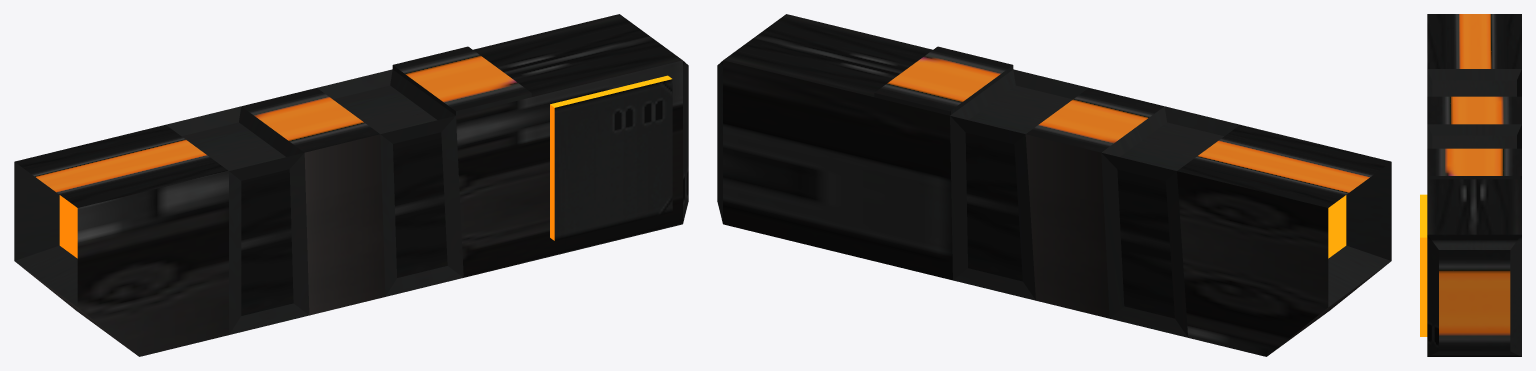
File: flashlight2.glb
3 views of the same model, side by side, from view 1: azimuth 30°, elevation 25°; view 2: azimuth 150°, elevation 25°; view 3: azimuth 270°, elevation 25° (orthographic). The views are drawn at different scales.
Parts seen in each view (by area): view 1: Cube; view 2: Cube; view 3: Cube.
Boxes of the visible parts, x1,y1,x2,y2 form: Cube: [14, 14, 688, 356]; Cube: [717, 14, 1391, 356]; Cube: [1420, 14, 1521, 356].
Bounding box in the file's own units: 2.65 × 0.6902 × 0.5066.
2 materials, 1 textured.
